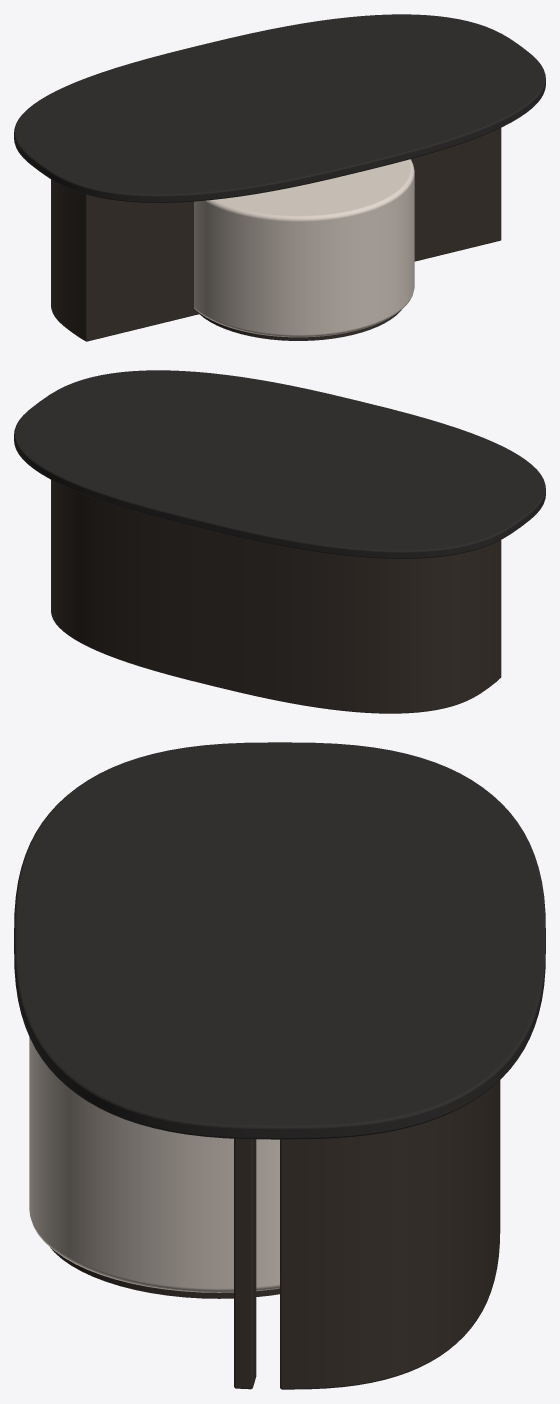
Rendered from glory-sofa-set--centre.glb.
3 views of the same model, one above another, from view 1: azimuth 30°, elevation 25°; view 2: azimuth 150°, elevation 25°; view 3: azimuth 270°, elevation 25° (orthographic). The views are drawn at different scales.
Visible parts, largest first — view 1: top, drum, wall, drumbase; view 2: top, wall; view 3: top, wall, drum, drumbase.
Boxes of the visible parts, box(x1,y1,x2,y2) form: top: box(14, 14, 545, 202); drum: box(194, 159, 414, 337); wall: box(51, 128, 501, 341); drumbase: box(199, 310, 401, 340); top: box(14, 370, 545, 558); wall: box(51, 480, 501, 713); top: box(14, 742, 545, 1139); wall: box(234, 1080, 500, 1389); drum: box(29, 1037, 279, 1292); drumbase: box(50, 1247, 279, 1298).
Bounding box in the file's own units: 1.2 × 0.42 × 0.7.
